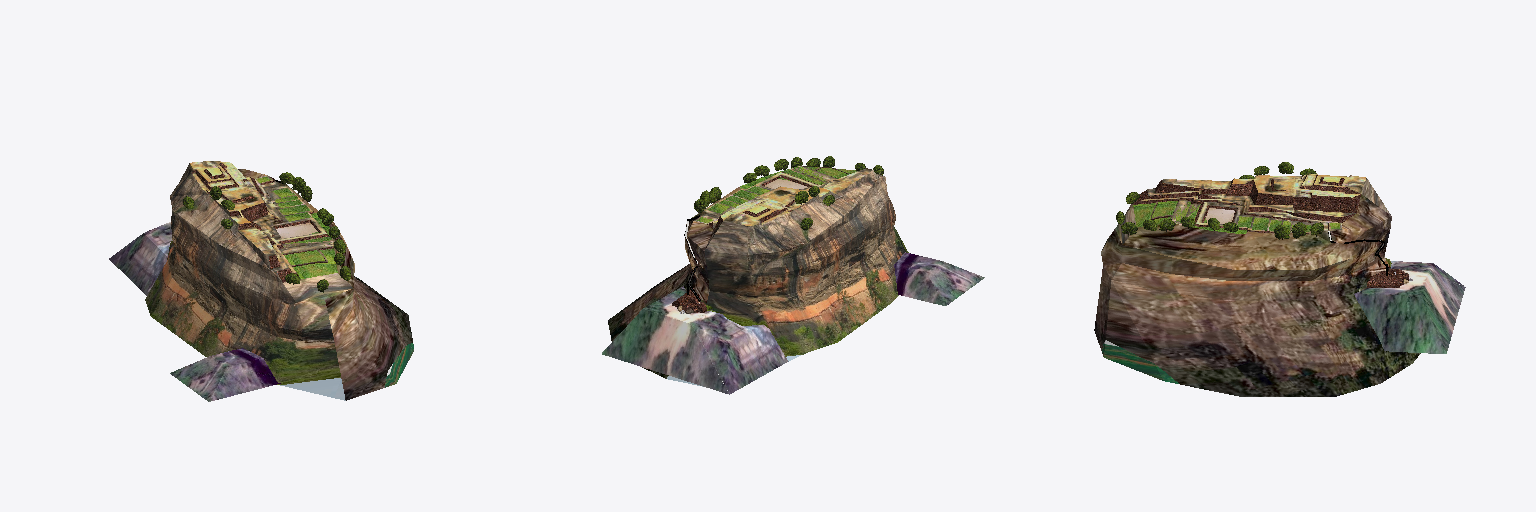
The picture shows the model from 3 angles: view 1: azimuth 30°, elevation 25°; view 2: azimuth 150°, elevation 25°; view 3: azimuth 270°, elevation 25°; orthographic projection.
Parts seen in each view (by area): view 1: Mesh1 Group1 Model, Mesh6 Group5 Model, Mesh7 Group6 Model, Mesh9 Group7 Model, Mesh3 Group3 Model; view 2: Mesh1 Group1 Model, Mesh3 Group3 Model, Mesh6 Group5 Model, Mesh9 Group7 Model, Mesh7 Group6 Model, Mesh8 Group6 Model; view 3: Mesh7 Group6 Model, Mesh6 Group5 Model, Mesh3 Group3 Model, Mesh8 Group6 Model, Mesh1 Group1 Model.
Part boxes in pixels (bbox=[...]): Mesh1 Group1 Model: bbox=[145, 163, 353, 400]; Mesh6 Group5 Model: bbox=[190, 161, 337, 282]; Mesh7 Group6 Model: bbox=[285, 184, 413, 400]; Mesh9 Group7 Model: bbox=[170, 348, 280, 401]; Mesh3 Group3 Model: bbox=[109, 180, 282, 295]; Mesh1 Group1 Model: bbox=[667, 173, 908, 386]; Mesh3 Group3 Model: bbox=[602, 215, 787, 394]; Mesh6 Group5 Model: bbox=[694, 166, 884, 229]; Mesh9 Group7 Model: bbox=[894, 252, 984, 305]; Mesh7 Group6 Model: bbox=[608, 166, 811, 378]; Mesh8 Group6 Model: bbox=[687, 218, 721, 262]; Mesh7 Group6 Model: bbox=[1094, 224, 1420, 396]; Mesh6 Group5 Model: bbox=[1133, 174, 1365, 241]; Mesh3 Group3 Model: bbox=[1328, 231, 1465, 353]; Mesh8 Group6 Model: bbox=[1330, 194, 1391, 242]; Mesh1 Group1 Model: bbox=[1102, 178, 1391, 266].
Bounding box in the file's own units: 215 × 118 × 261.
Materials: 24 (21 with a texture image).